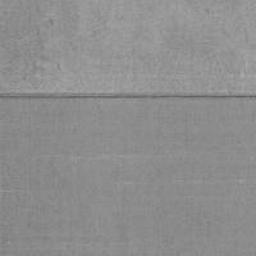Welding line: (0, 91, 256, 100)
